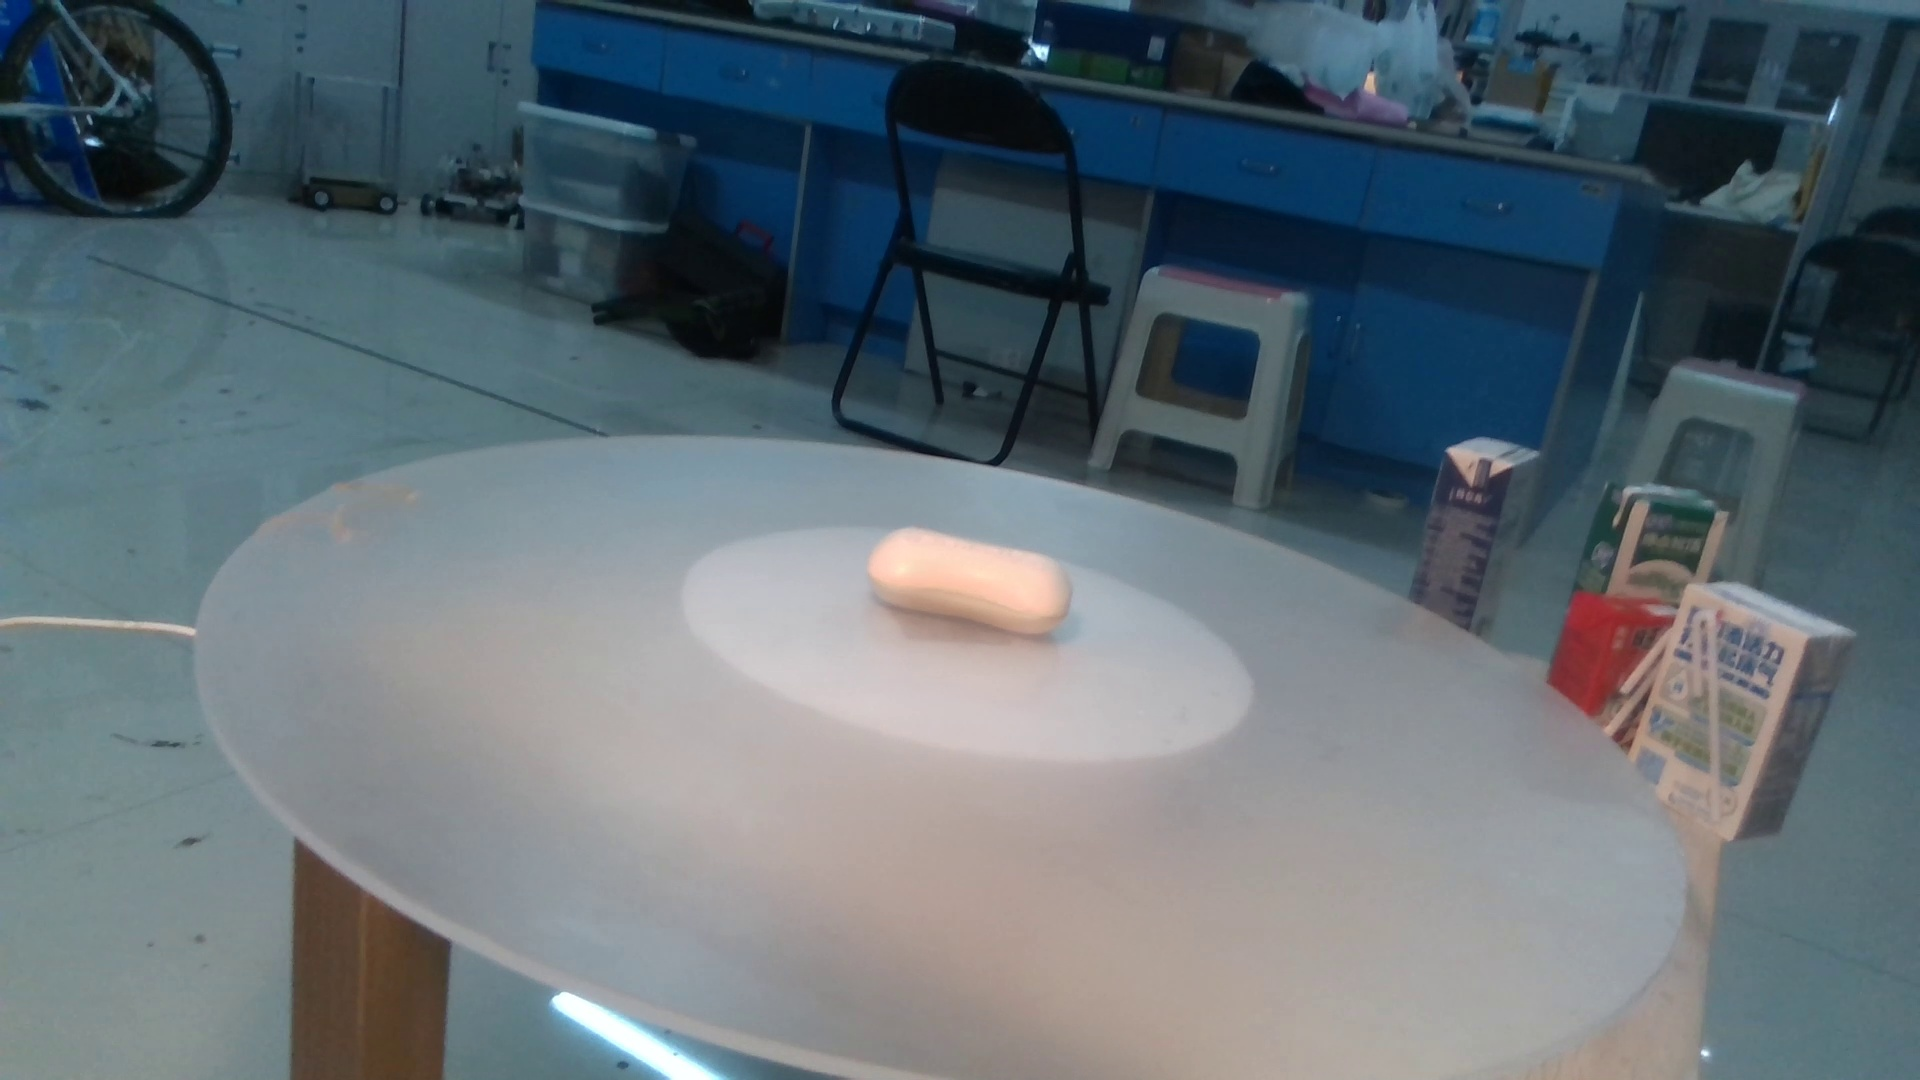CA003_1: (839, 493, 1109, 655)
